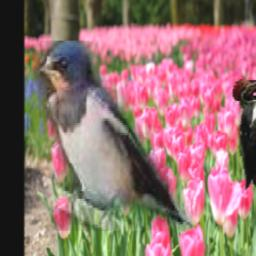Swallow: (32, 42, 192, 232)
Woodpecker: (233, 78, 256, 219)
